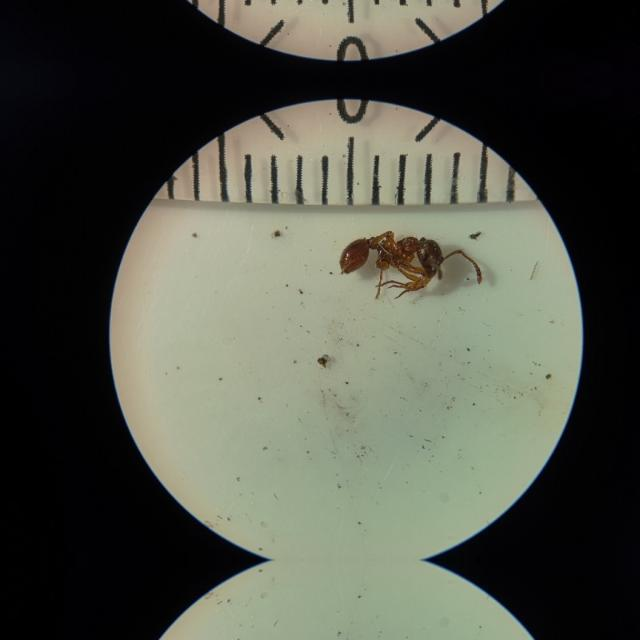Myrmica: (336, 212, 468, 302)
